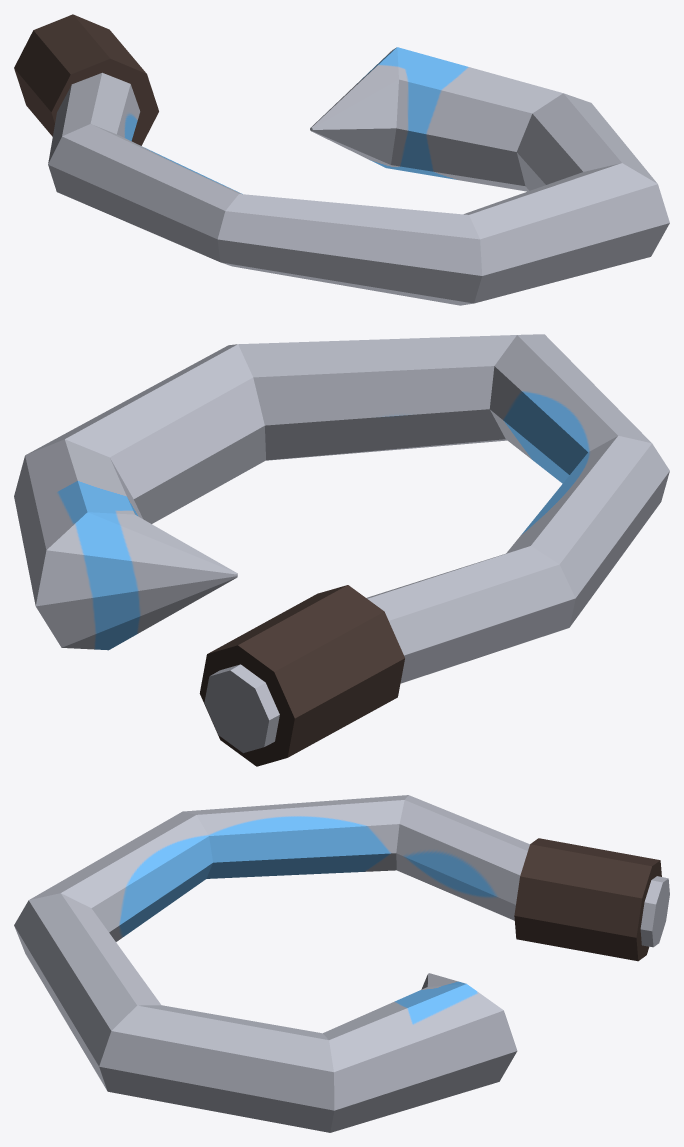
The model's file is return_sickle_1.glb.
3 renders of one model, top to bottom at view 1: azimuth 30°, elevation 25°; view 2: azimuth 150°, elevation 25°; view 3: azimuth 270°, elevation 25°, orthographic. The views are drawn at different scales.
Visible parts, largest first — view 1: wear_return_sickle_1_00_display; view 2: wear_return_sickle_1_00_display; view 3: wear_return_sickle_1_00_display.
Boxes of the visible parts, x1,y1,x2,y2 form: wear_return_sickle_1_00_display: [14, 14, 669, 305]; wear_return_sickle_1_00_display: [14, 334, 669, 766]; wear_return_sickle_1_00_display: [14, 795, 669, 1132].
Bounding box in the file's own units: 0.4824 × 0.1327 × 0.5705.
2 materials, 1 textured.
